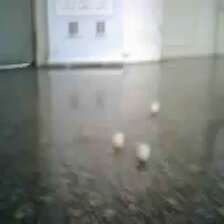tennis: (129, 175, 166, 224), (51, 98, 73, 131), (94, 67, 107, 87)
